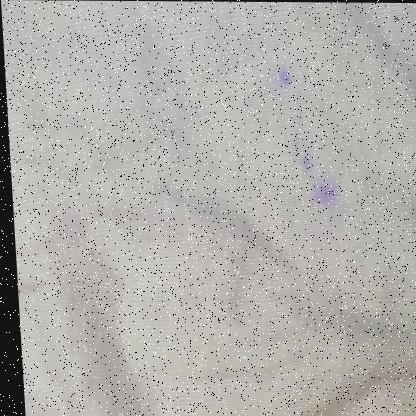spot: (296, 163, 341, 223), (264, 54, 299, 98), (282, 142, 317, 184)
